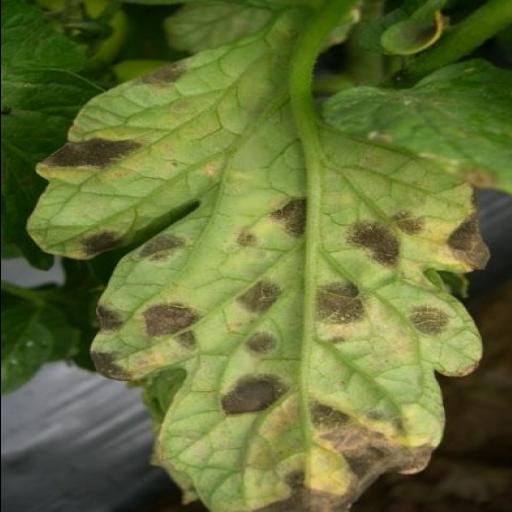disease_tomato: (24, 0, 496, 512)
